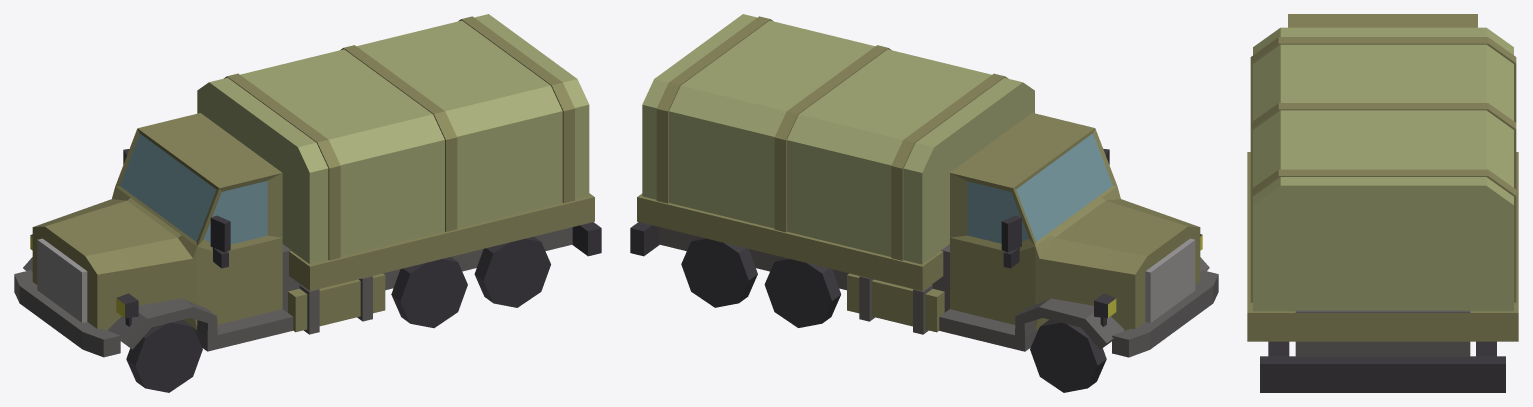
Rendered from truck.glb.
The picture shows the model from 3 angles, left to right: view 1: azimuth 30°, elevation 25°; view 2: azimuth 150°, elevation 25°; view 3: azimuth 270°, elevation 25°; orthographic projection. The views are drawn at different scales.
Visible parts, largest first — view 1: Cube.004; view 2: Cube.004; view 3: Cube.004.
Boxes of the visible parts, x1=… form: Cube.004: x1=14, y1=14, x2=601, y2=392; Cube.004: x1=630, y1=14, x2=1218, y2=392; Cube.004: x1=1247, y1=14, x2=1518, y2=392.
Bounding box in the file's own units: 10.85 × 4.37 × 4.42.
Materials: 1 (1 with a texture image).
